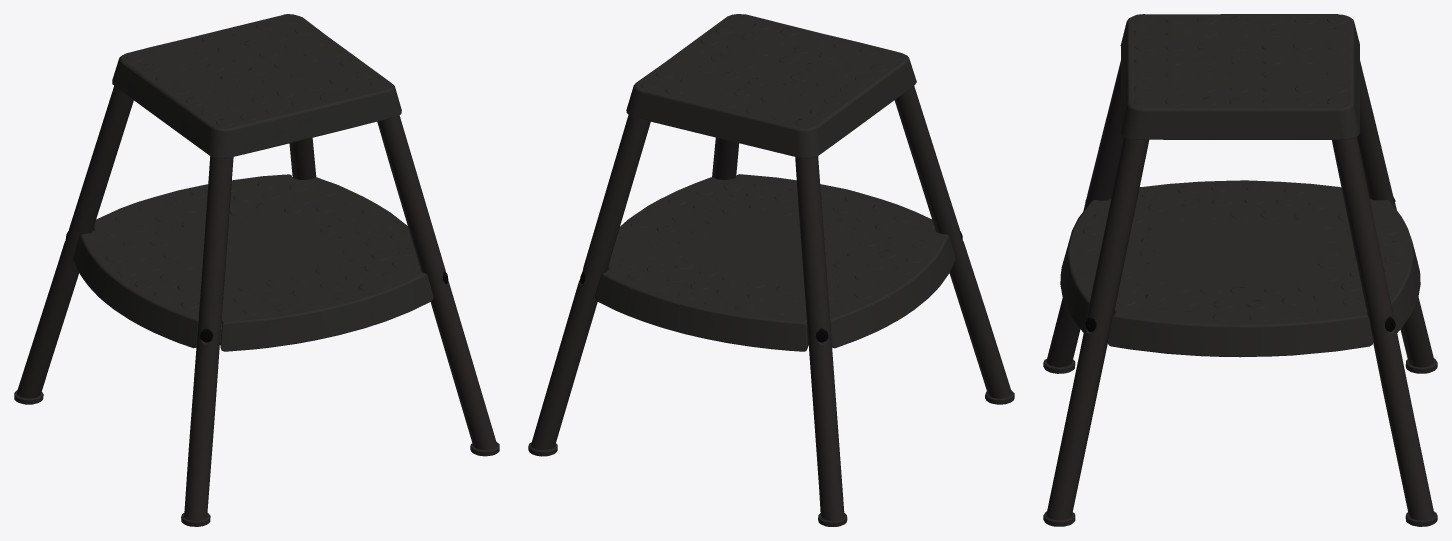
The model's file is haddarp_taboret_ze_schodkiem_60581944.glb.
3 renders of one model, left to right at view 1: azimuth 30°, elevation 25°; view 2: azimuth 150°, elevation 25°; view 3: azimuth 270°, elevation 25°, orthographic. The views are drawn at different scales.
Parts seen in each view (by area): view 1: haddarp_taboret_ze_schodkiem_60581944; view 2: haddarp_taboret_ze_schodkiem_60581944; view 3: haddarp_taboret_ze_schodkiem_60581944.
Boxes of the visible parts, box(x1,y1,x2,y2) form: haddarp_taboret_ze_schodkiem_60581944: box(14, 14, 499, 526); haddarp_taboret_ze_schodkiem_60581944: box(528, 14, 1014, 526); haddarp_taboret_ze_schodkiem_60581944: box(1043, 14, 1437, 526).
Bounding box in the file's own units: 0.4382 × 0.4704 × 0.4384.
Materials: 1 (1 with a texture image).
